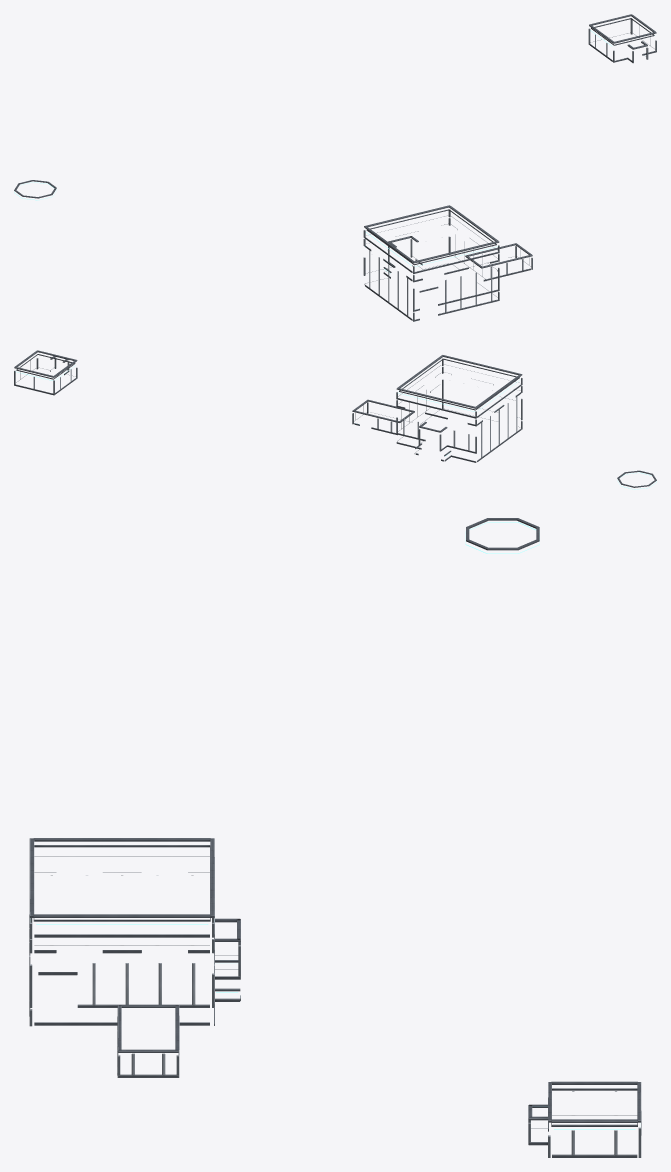
3 views of the same model, one above another, from view 1: azimuth 30°, elevation 25°; view 2: azimuth 150°, elevation 25°; view 3: azimuth 270°, elevation 25° (orthographic). The views are drawn at different scales.
Parts seen in each view (by area): view 1: fl-station; view 2: fl-station; view 3: fl-station.
Part boxes in pixels (x1=…): fl-station: x1=14, y1=14, x2=656, y2=321; fl-station: x1=14, y1=350, x2=656, y2=489; fl-station: x1=29, y1=518, x2=641, y2=1157.
Size of the model in its own units: 213 by 31.51 by 93.32.
1 material, 1 textured.
